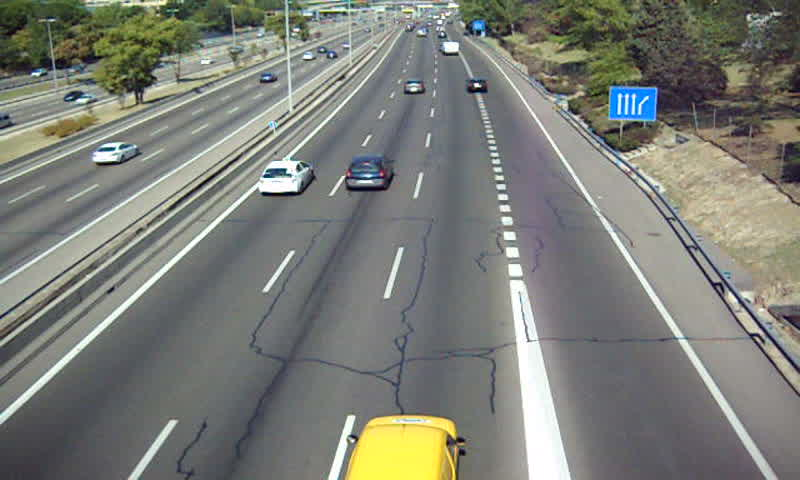car: (259, 161, 315, 194), (345, 157, 393, 190), (402, 78, 425, 94), (466, 79, 488, 93)
van: (442, 42, 461, 54)
